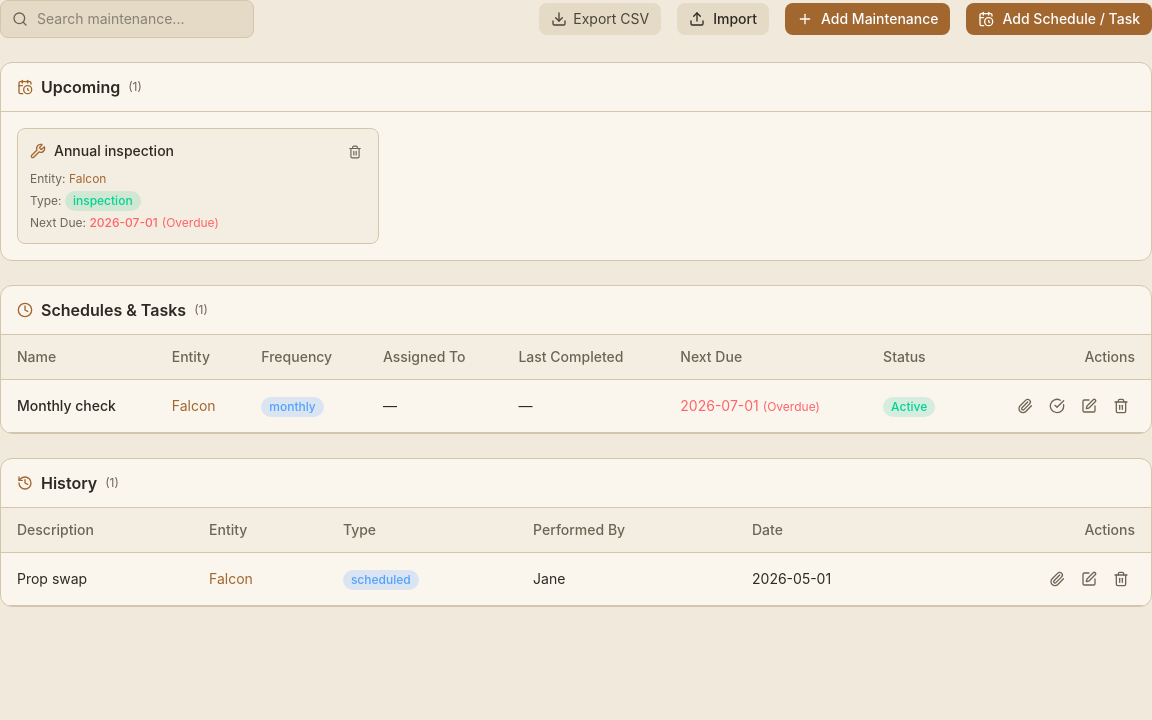
MaintenancePage › opens the documents modal from a history row paperclip
Expected: the text "Prop swap" is shown, [1, 552, 193, 606]
Click the button titled "Documents" in the row of "Monthly check": (1025, 406) [1011, 392, 1039, 420]
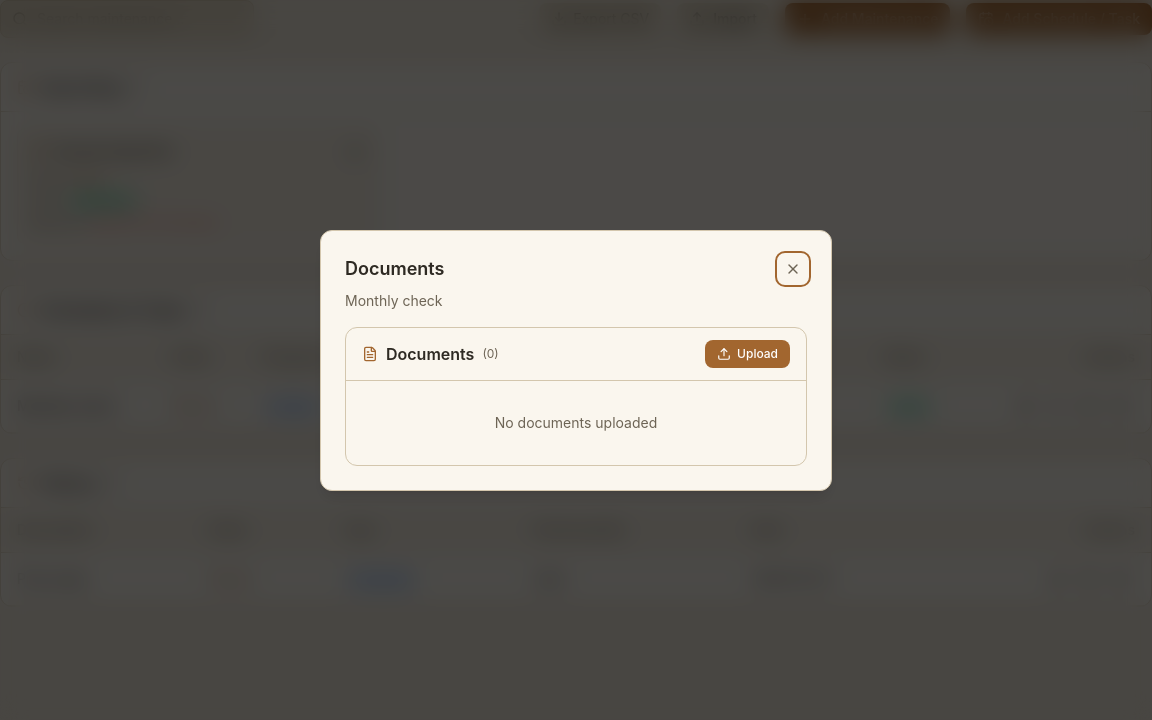
Result: the text "No documents uploaded" is shown at [495, 414, 657, 430]
